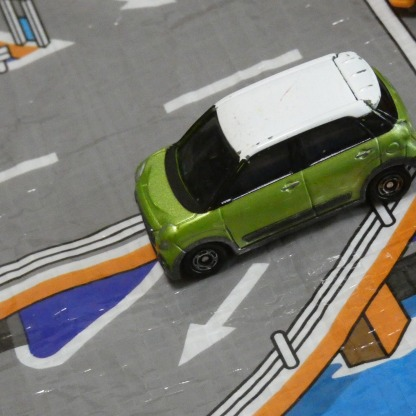car: (130, 51, 416, 284)
